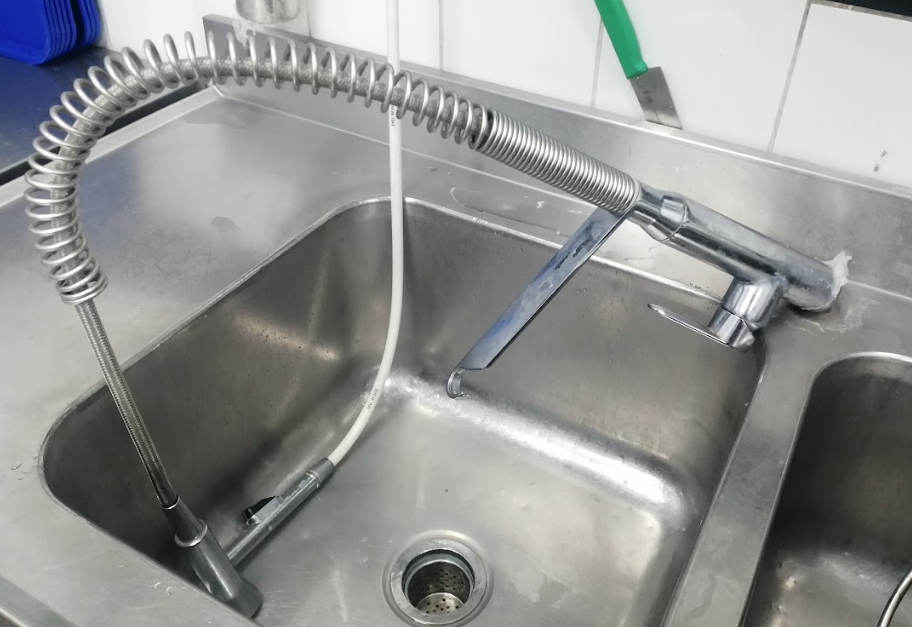Deck Faucet: (17, 24, 889, 616)
